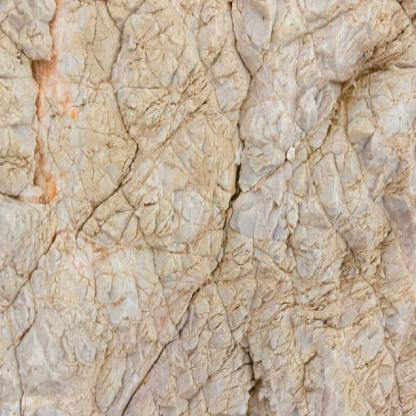Metamorphic_Marble: (2, 5, 416, 415)
